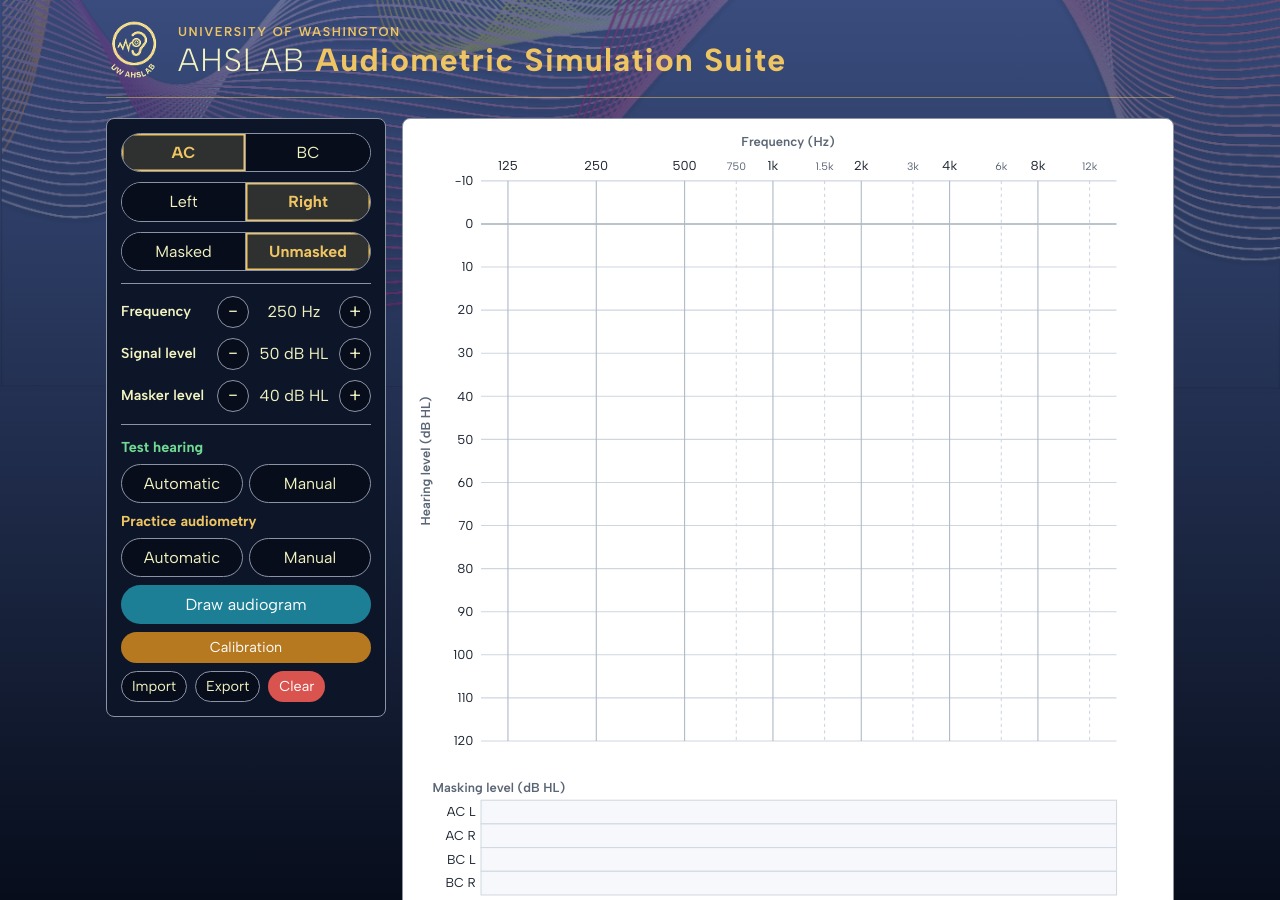
automatic practice patient selection › continues to load and plot a sample patient
Later steps or results of the test are not shown.
What coordinates should you click on to do the following:
click the button "Automatic" below "Practice audiometry"
I would click on:
 (182, 557)
Its box is [121, 538, 243, 577].
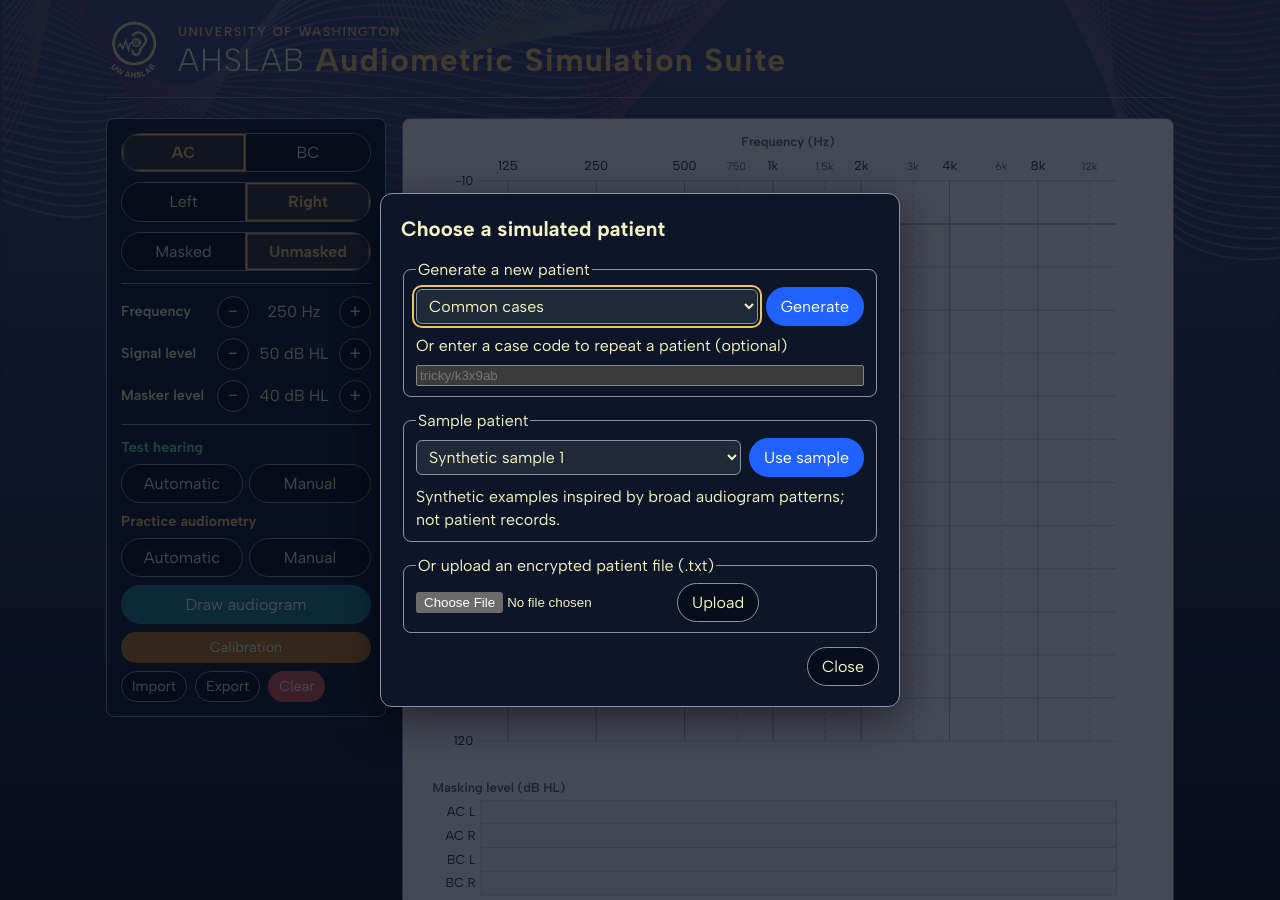
What coordinates should you click on to do the following:
click the button "Use sample"
I would click on:
 (806, 457)
Its box is [749, 438, 864, 477].
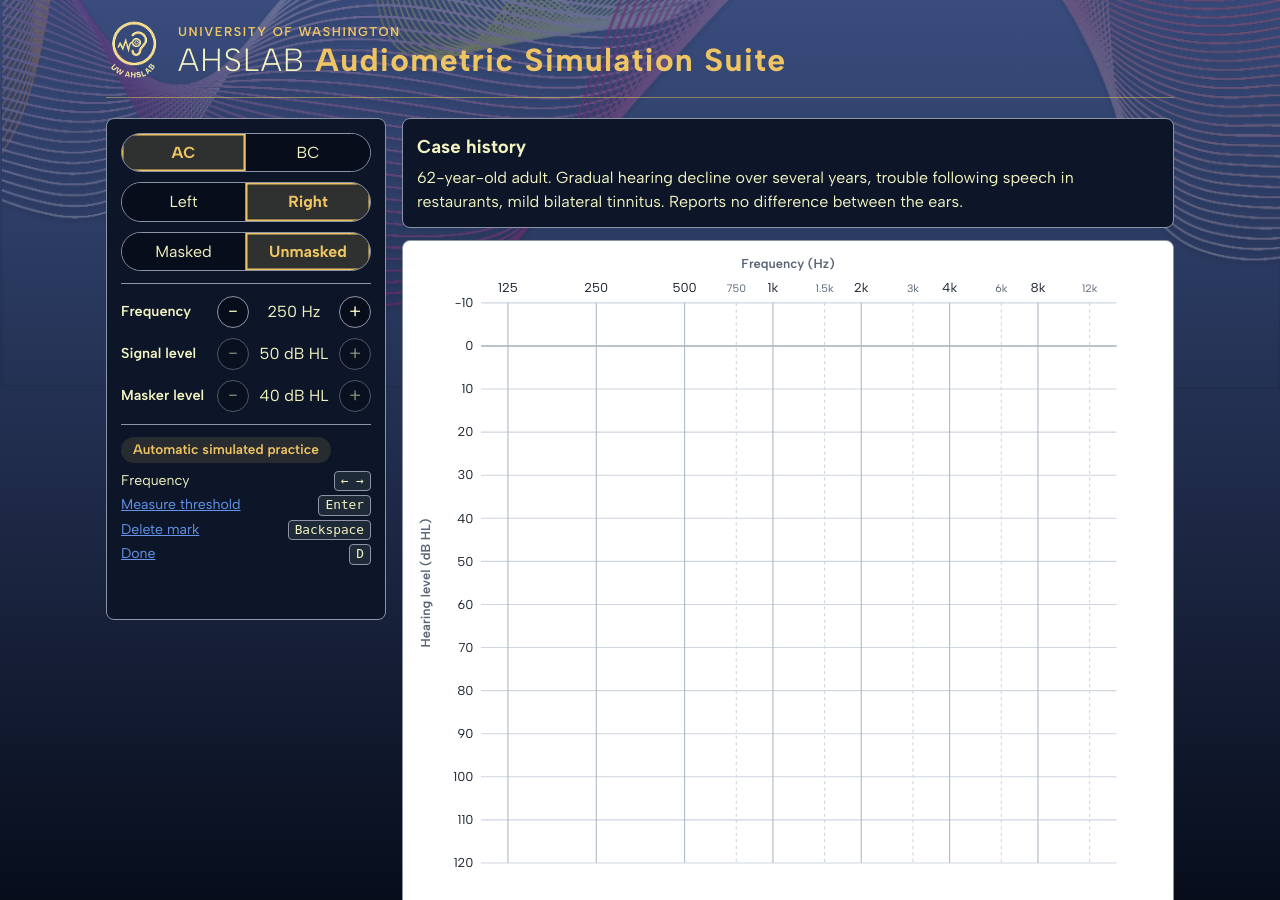
Result: the button "Measure threshold" is shown at [121, 495, 240, 516]
